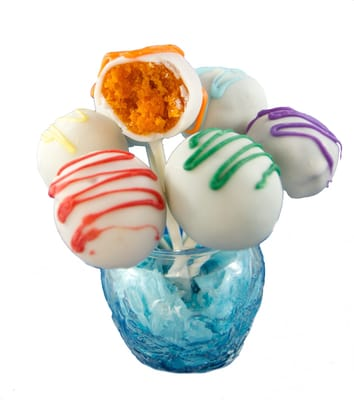salad: (164, 128, 283, 250), (245, 106, 342, 199), (38, 108, 129, 188), (97, 59, 188, 138), (195, 68, 268, 134)
soup: (99, 229, 266, 373)
